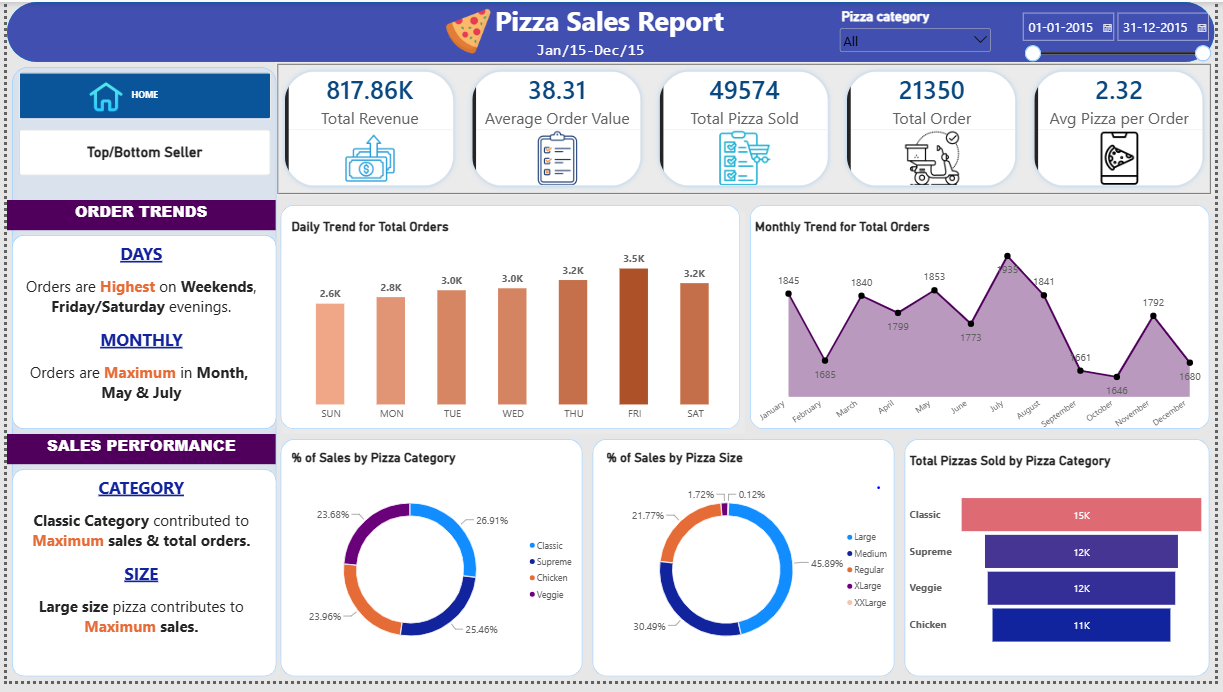

The dashboard page shown, as its layout file describes it:
{"tool":"powerbi","page":{"name":"HOME","canvas":[1920,1080],"ordinal":0},"visuals":[{"type":"cardVisual","fields":{"Data":["pizza_sales.Total Revenue","pizza_sales.Avg_order_value","pizza_sales.Total_pizza_sold","pizza_sales.Total_order","pizza_sales.Avg_pizza_per_order"]},"box":[427.1,95.4,1493.6,212.3],"z":0},{"type":"shape","box":[0,0,1920.7,95.4],"z":1000},{"type":"textbox","box":[734.9,0,446.2,74],"z":2000},{"type":"textbox","box":[842.2,62,238.6,66.8],"z":3000},{"type":"image","box":[684.8,9.5,97.8,74],"z":4000},{"type":"shape","box":[427.1,314.9,746.8,372.2],"z":5000},{"type":"columnChart","title":"Daily Trend for Total Orders","fields":{"Category":["pizza_sales.Order Day"],"Y":["pizza_sales.Total_order"]},"box":[436.6,331.6,737.2,355.5],"z":6000},{"type":"shape","box":[1173.9,314.9,746.8,372.2],"z":7000},{"type":"areaChart","title":"Monthly Trend for Total Orders","fields":{"Category":["pizza_sales.order_date.Variation.Date Hierarchy.Month"],"Y":["pizza_sales.Total_order"]},"box":[1173.9,331.6,746.8,379.4],"z":8000},{"type":"shape","box":[427.1,687.1,496.3,393.7],"z":9000},{"type":"shape","box":[1419.6,687.1,501,393.7],"z":10000},{"type":"shape","box":[923.3,687.1,496.3,393.7],"z":11000},{"type":"donutChart","title":"% of Sales by Pizza Category","fields":{"Category":["pizza_sales.pizza_category"],"Y":["pizza_sales.Total Revenue"]},"box":[436.6,699.1,486.7,369.8],"z":12000},{"type":"shape","box":[0,95.4,436.6,985.4],"z":13000},{"type":"donutChart","title":"% of Sales by Pizza Size","fields":{"Category":["pizza_sales.pizza_size"],"Y":["pizza_sales.Total Revenue"]},"box":[937.7,699.1,486.7,369.8],"z":14000},{"type":"funnel","title":" Total Pizzas Sold by Pizza Category","fields":{"Category":["pizza_sales.pizza_category"],"Y":["pizza_sales.Total_pizza_sold"]},"box":[1419.6,703.8,501,360.3],"z":15000},{"type":"textbox","box":[0,314.9,427.1,47.7],"z":16000},{"type":"shape","box":[0,362.7,436.6,324.5],"z":17000},{"type":"textbox","box":[0,381.7,427.1,305.4],"z":18000},{"type":"textbox","box":[0,687.1,427.1,47.7],"z":19000},{"type":"shape","box":[0,734.9,436.6,346],"z":20000},{"type":"textbox","box":[0,734.9,427.1,310.2],"z":21000},{"type":"slicer","fields":{"Values":["pizza_sales.pizza_category"]},"box":[1319.4,9.5,250.5,85.9],"z":22000},{"type":"slicer","fields":{"Values":["pizza_sales.order_date"]},"box":[1608.1,11.9,310.2,83.5],"z":23000},{"type":"pageNavigator","box":[19.1,202.8,400.8,74],"z":23002},{"type":"pageNavigator","box":[19.1,112.1,400.8,74],"z":23003},{"type":"image","box":[128.8,114.5,57.3,74],"z":23004}]}

Visuals, with their boxes in screenshot pixels (x1, y1, x2, y2), scaled from the page's 1920x1080 canvas onto the 1223x692 screenshot:
cardVisual - pizza_sales.Total Revenue x pizza_sales.Avg_order_value: box=[272, 61, 1222, 197]
shape: box=[0, 0, 1222, 61]
textbox: box=[468, 0, 752, 47]
textbox: box=[536, 40, 688, 83]
image: box=[436, 6, 498, 54]
shape: box=[272, 202, 748, 440]
"Daily Trend for Total Orders" columnChart: box=[278, 212, 748, 440]
shape: box=[748, 202, 1222, 440]
"Monthly Trend for Total Orders" areaChart: box=[748, 212, 1222, 456]
shape: box=[272, 440, 588, 691]
shape: box=[904, 440, 1222, 691]
shape: box=[588, 440, 904, 691]
"% of Sales by Pizza Category" donutChart: box=[278, 448, 588, 685]
shape: box=[0, 61, 278, 691]
"% of Sales by Pizza Size" donutChart: box=[597, 448, 907, 685]
" Total Pizzas Sold by Pizza Category" funnel: box=[904, 451, 1222, 682]
textbox: box=[0, 202, 272, 232]
shape: box=[0, 232, 278, 440]
textbox: box=[0, 245, 272, 440]
textbox: box=[0, 440, 272, 471]
shape: box=[0, 471, 278, 691]
textbox: box=[0, 471, 272, 670]
slicer - pizza_sales.pizza_category: box=[840, 6, 1000, 61]
slicer - pizza_sales.order_date: box=[1024, 8, 1222, 61]
pageNavigator: box=[12, 130, 267, 177]
pageNavigator: box=[12, 72, 267, 119]
image: box=[82, 73, 119, 121]
